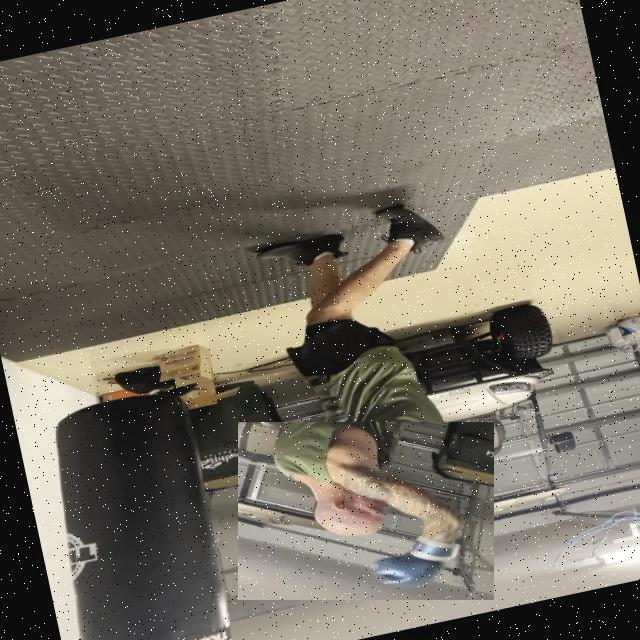punch: (238, 422, 494, 600)
